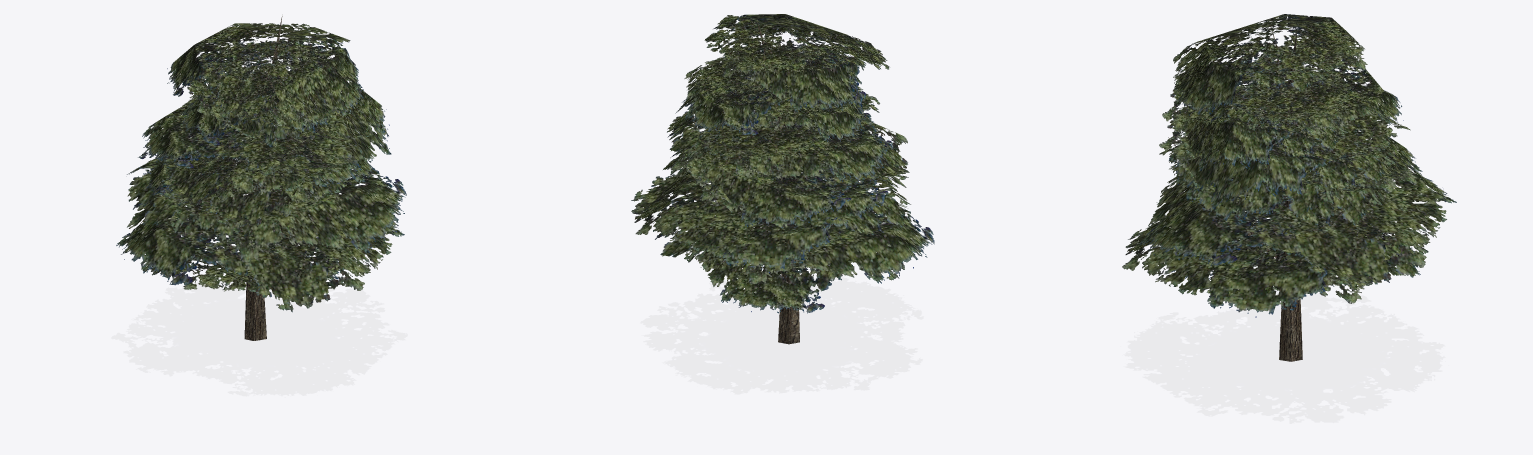
The model's file is AshTree.obj.
3 views of the same model, side by side, from view 1: azimuth 30°, elevation 25°; view 2: azimuth 150°, elevation 25°; view 3: azimuth 270°, elevation 25° (orthographic). The views are drawn at different scales.
Parts seen in each view (by area): view 1: ashcanopy, bark; view 2: ashcanopy, bark; view 3: ashcanopy, bark.
Part boxes in pixels (box(x1,y1,x2,y2)): ashcanopy: box(116, 23, 406, 312); bark: box(239, 16, 298, 340); ashcanopy: box(631, 14, 934, 313); bark: box(742, 20, 840, 344); ashcanopy: box(1122, 14, 1456, 317); bark: box(1168, 25, 1359, 361).
Bounding box in the file's own units: 89.88 × 80.78 × 96.2.
Materials: 3 (3 with a texture image).
